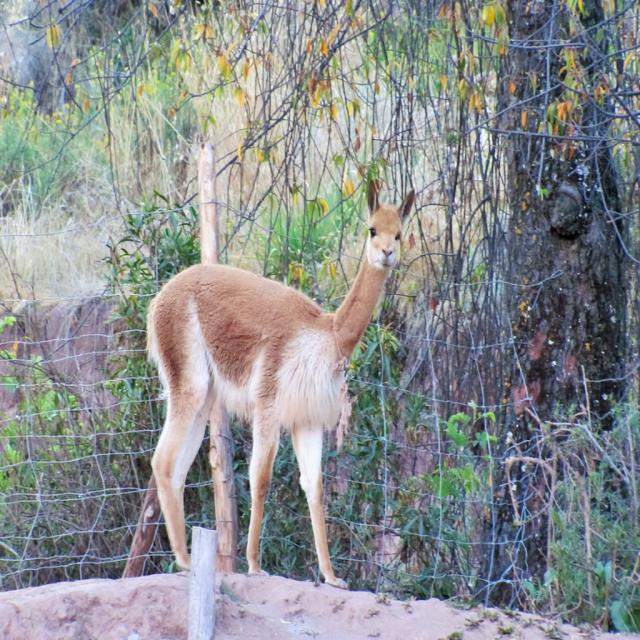Deer: (144, 178, 414, 588)
